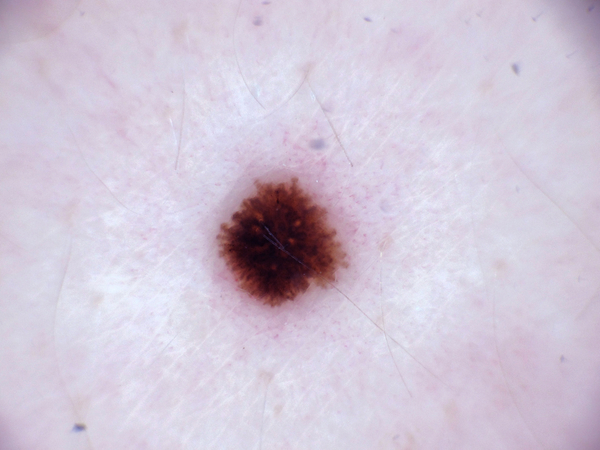Detected Lesion: (212, 173, 356, 312)
